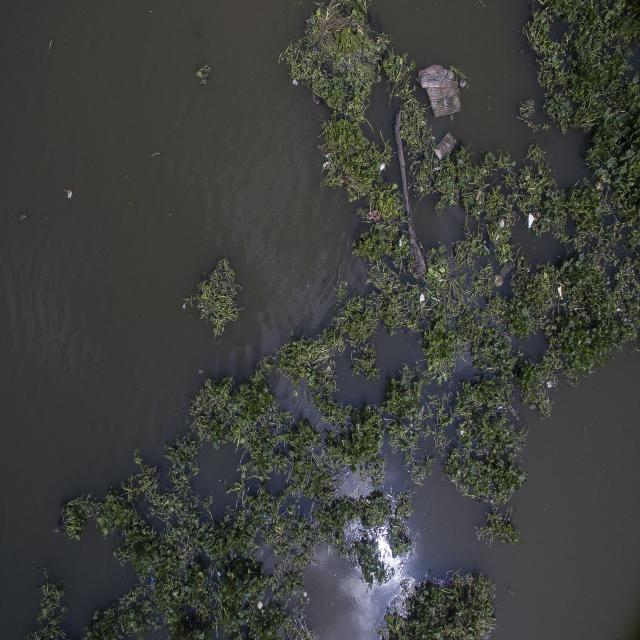plastic: (523, 212, 541, 233)
